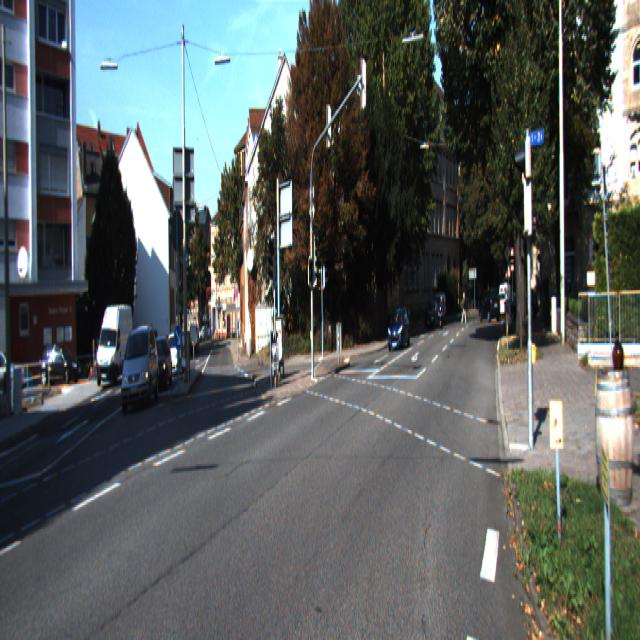Car: (121, 320, 160, 414), (97, 301, 134, 387), (387, 306, 411, 352), (437, 294, 445, 330)
